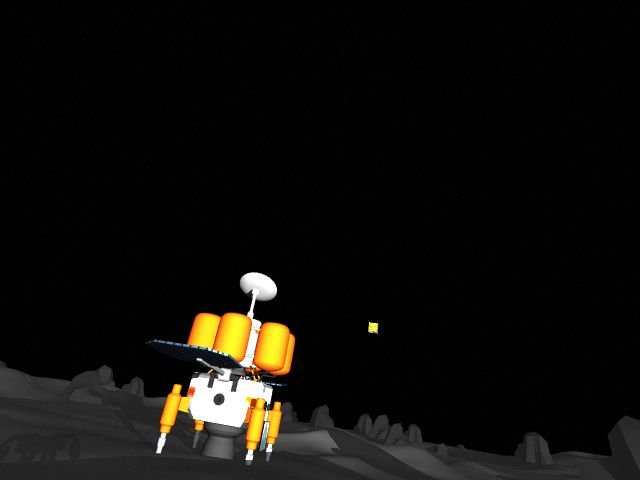cubesat: (367, 321, 380, 335)
